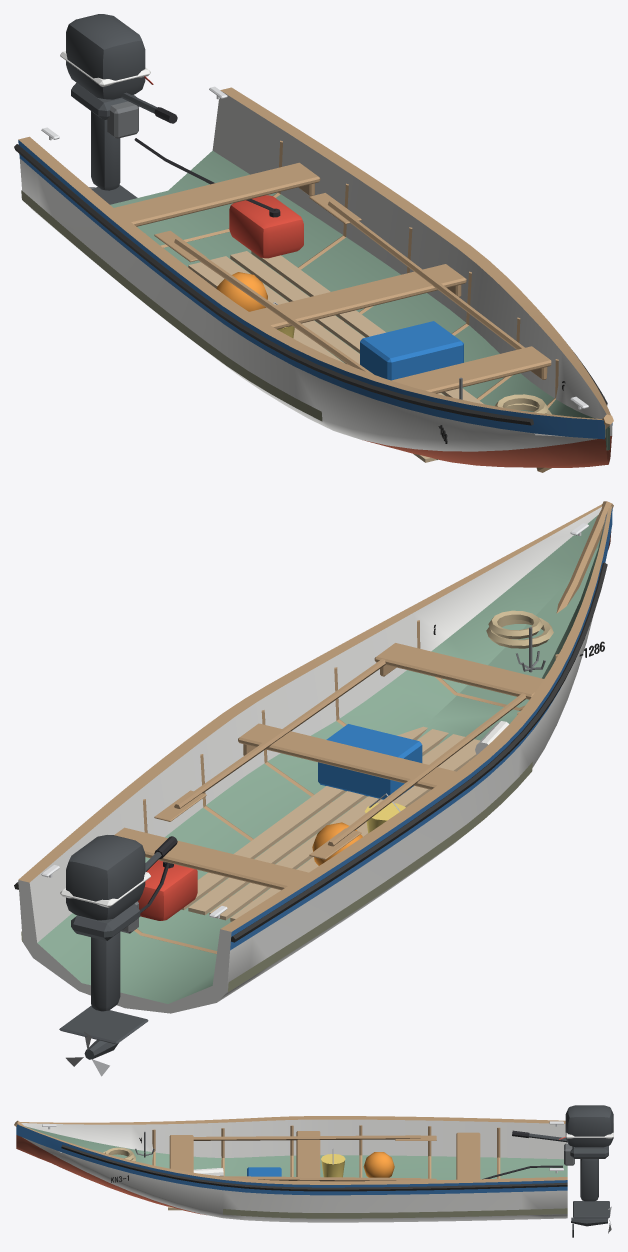
File: skiff.glb
3 views of the same model, one above another, from view 1: azimuth 30°, elevation 25°; view 2: azimuth 150°, elevation 25°; view 3: azimuth 270°, elevation 25° (orthographic). The views are drawn at different scales.
Visible parts, largest first — view 1: skiff_body; view 2: skiff_body; view 3: skiff_body.
Boxes of the visible parts, left/top/right/bottom form: skiff_body: left=14, top=14, right=613, bottom=472; skiff_body: left=14, top=501, right=613, bottom=1076; skiff_body: left=14, top=1105, right=613, bottom=1237.
Size of what is drawn, in the model's own units: 1.83 by 1.5 by 6.53.
